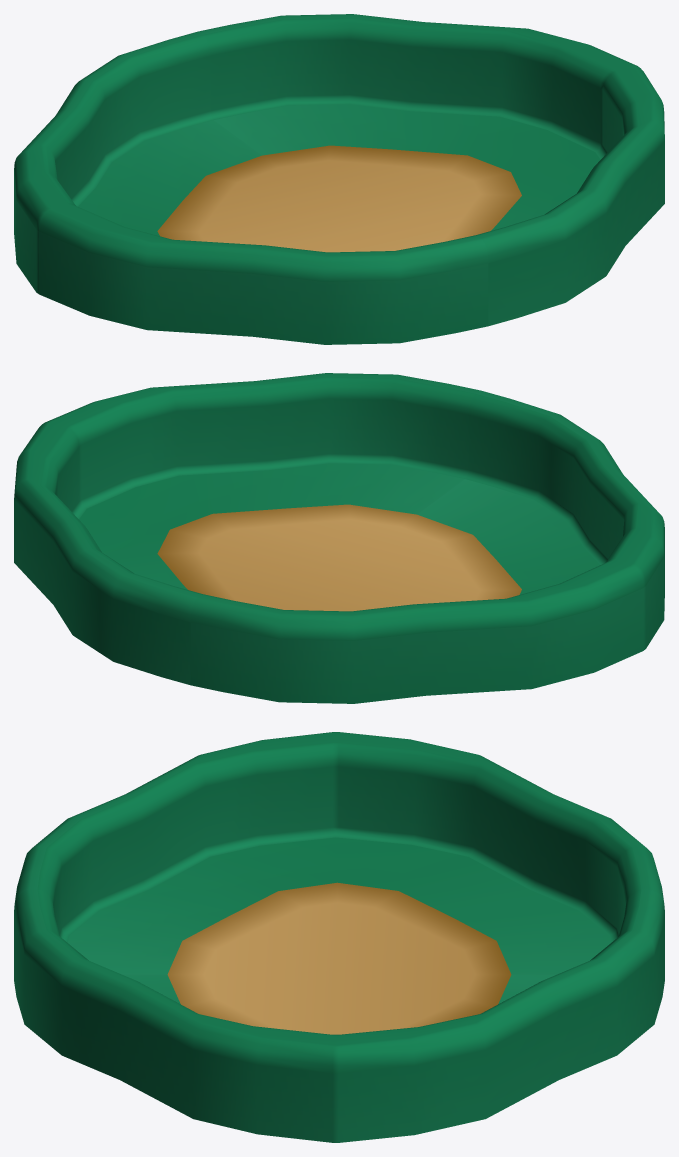
Rendered from Garden_Hedge_Final.fbx.
3 views of the same model, one above another, from view 1: azimuth 30°, elevation 25°; view 2: azimuth 150°, elevation 25°; view 3: azimuth 270°, elevation 25° (orthographic). The views are drawn at different scales.
Parts seen in each view (by area): view 1: Garden_hedge; view 2: Garden_hedge; view 3: Garden_hedge.
Part boxes in pixels (box(x1,y1,x2,y2)): Garden_hedge: box(14, 14, 664, 344); Garden_hedge: box(14, 373, 664, 703); Garden_hedge: box(14, 732, 664, 1142).
Bounding box in the file's own units: 1459 × 190 × 1232.
Materials: 1 (1 with a texture image).
